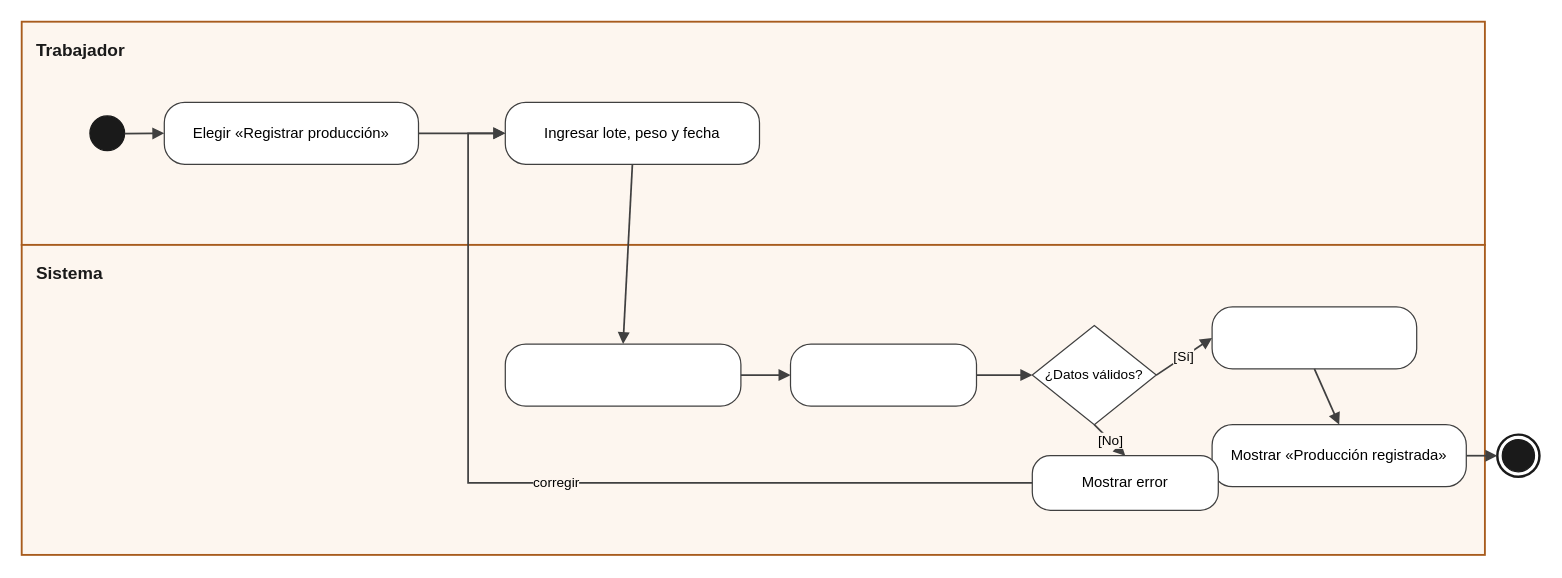
This 1562x578 diagram has some shape labels left out. Each missing label, with the box of its shape:
Guardar registro: (1211, 306, 1417, 369)
Mostrar formulario: (504, 343, 741, 406)
Validar datos: (789, 343, 976, 406)
